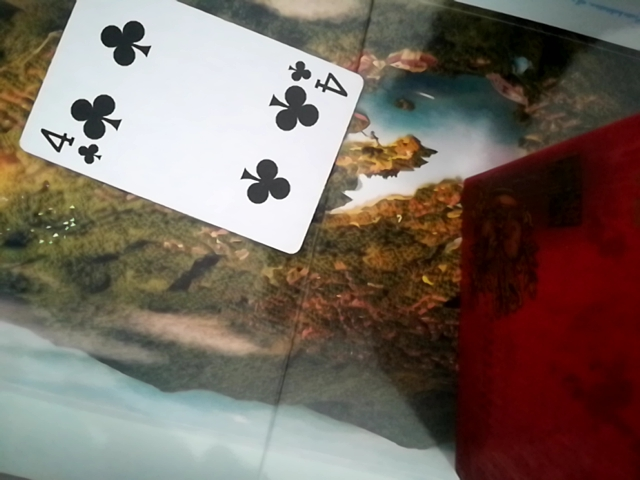mh 4: (12, 0, 367, 260)
